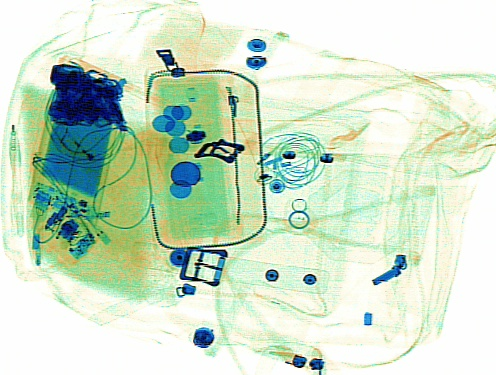lighter: (51, 122, 126, 204)
